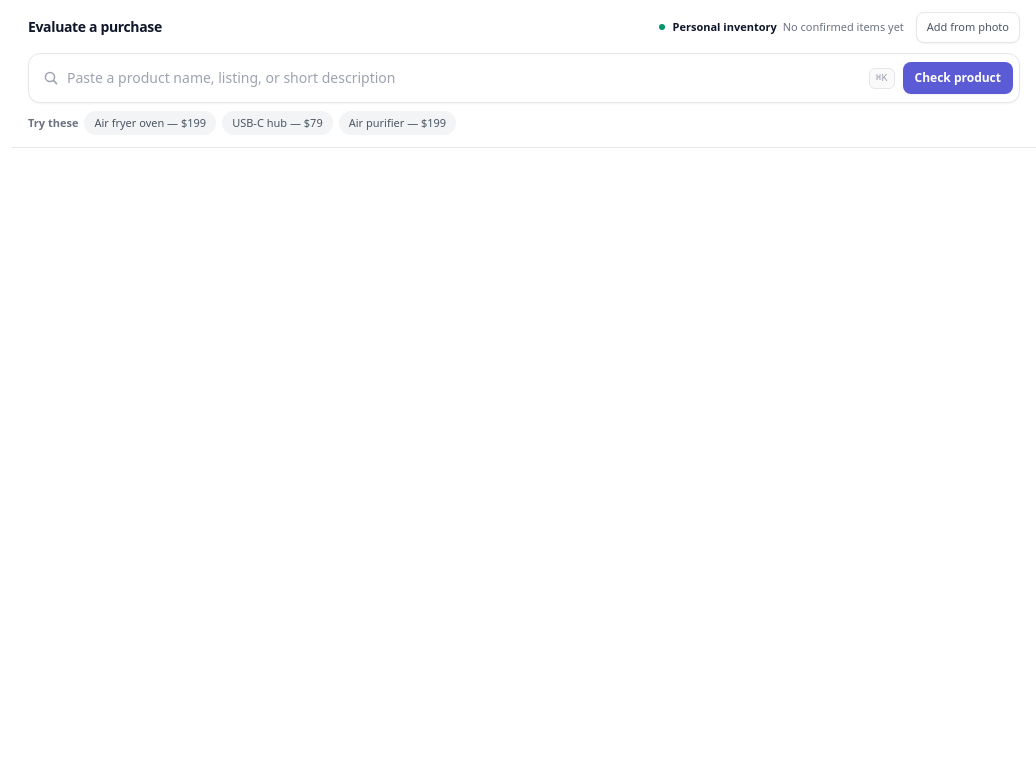
Test: Subgraph frontend contract › shows the signed-in scan-first empty state and scores offline examples against no owned items
Expected: the text "No confirmed items yet" is shown, [783, 19, 904, 36]
Click the button "Air fryer oven — $199" at (150, 123), box [84, 110, 216, 135]
(page scrolled)
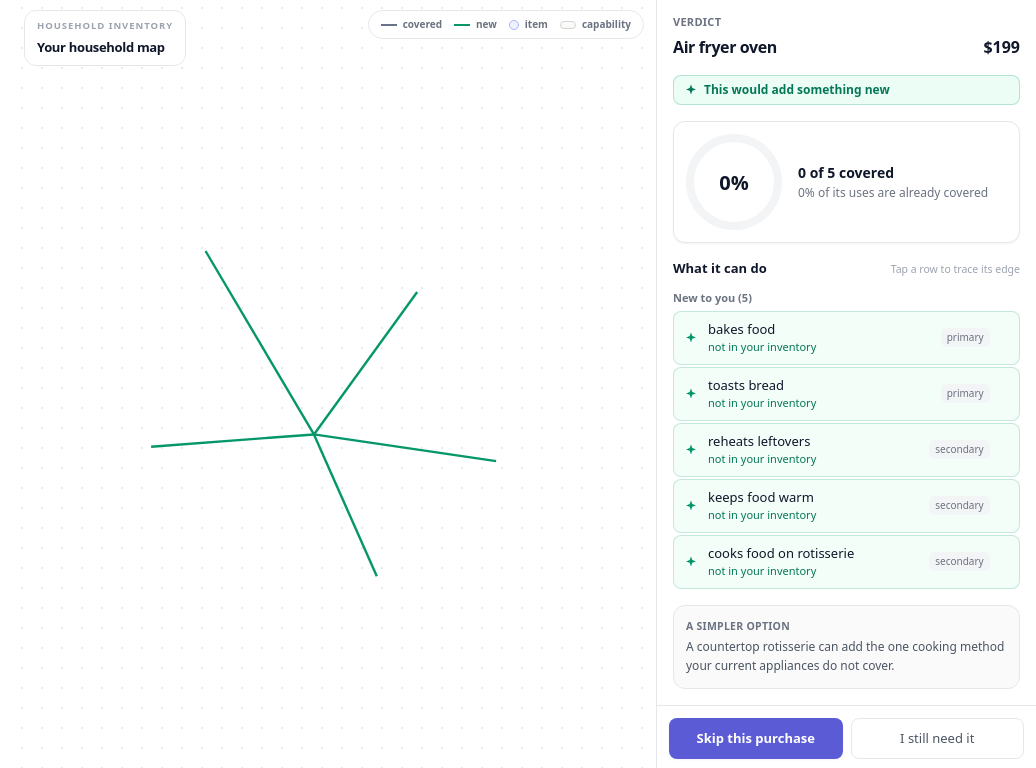
Now the heading "Air fryer oven" is shown, box [673, 35, 777, 59]
Now the text "0 of 5 covered" is shown, box [798, 163, 894, 182]
